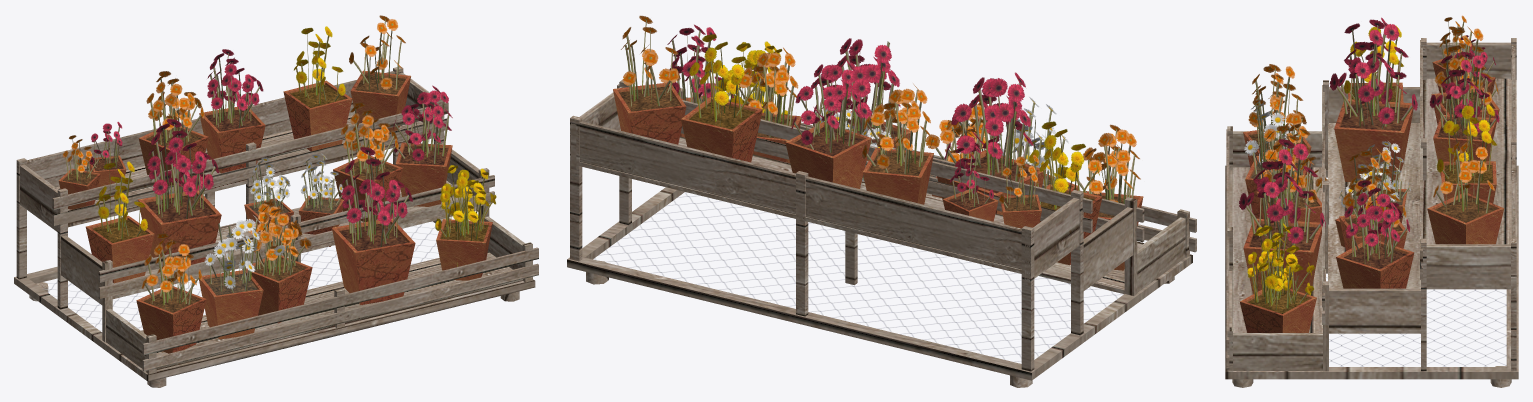
File: flower_stand_filled.glb
3 views of the same model, side by side, from view 1: azimuth 30°, elevation 25°; view 2: azimuth 150°, elevation 25°; view 3: azimuth 270°, elevation 25° (orthographic). The views are drawn at different scales.
Parts seen in each view (by area): view 1: Box001; view 2: Box001; view 3: Box001.
Boxes of the visible parts, x1=… form: Box001: x1=14, y1=15, x2=538, y2=387; Box001: x1=567, y1=15, x2=1196, y2=387; Box001: x1=1225, y1=15, x2=1518, y2=387.
Bounding box in the file's own units: 256 × 132 × 150.
10 materials, 10 textured.
